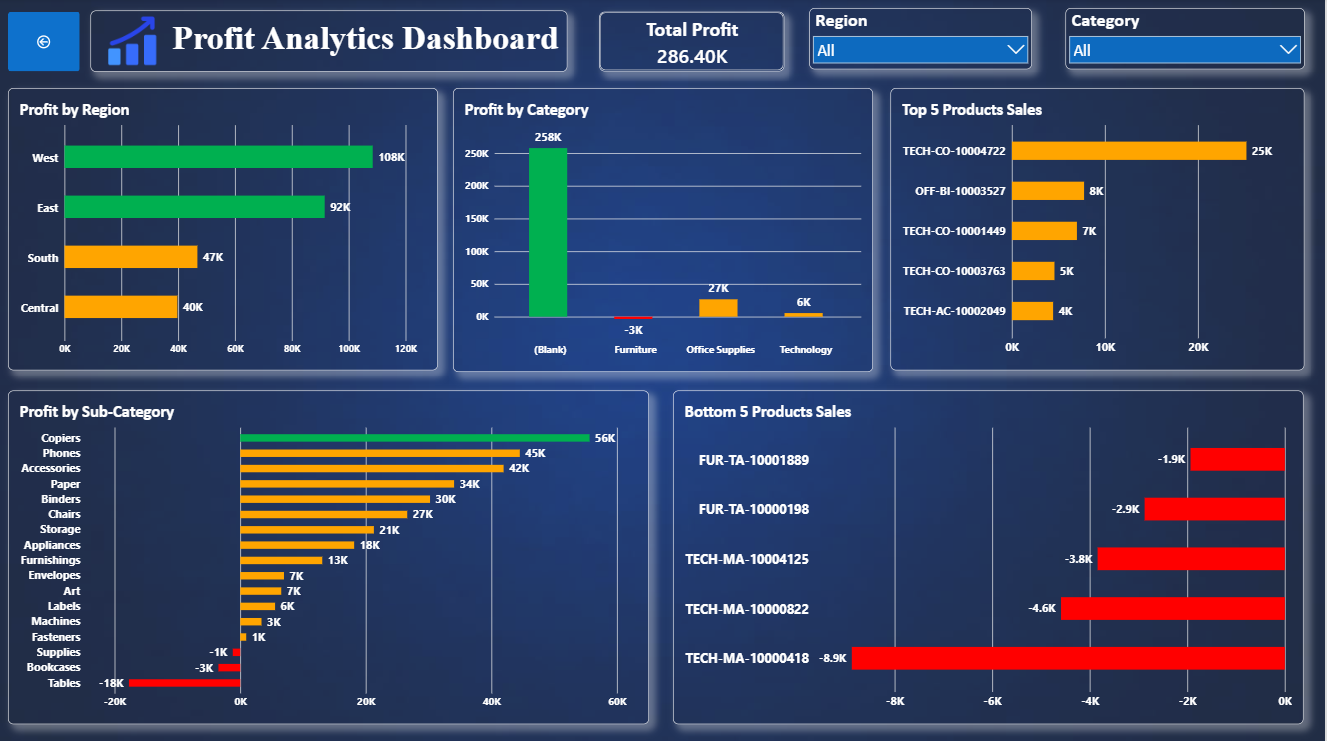

What the dashboard file says about the page in this screenshot:
{"tool":"powerbi","page":{"name":"Profit","canvas":[1920,1080],"ordinal":2},"visuals":[{"type":"textbox","box":[134.2,17.3,690.4,88.7],"z":0},{"type":"clusteredBarChart","title":"Profit by Region","fields":{"Category":["Data.Region Hierarchy.Region","Data.Region Hierarchy.State","Data.Region Hierarchy.City"],"Y":["Sum(Data.Profit)"]},"box":[14.5,130.3,622.5,409],"z":1000},{"type":"columnChart","title":"Profit by Category","fields":{"Category":["Abbreviations.Category Hierarchy.Category","Abbreviations.Category Hierarchy.Sub-Category"],"Y":["Sum(Data.Profit)"]},"box":[657.9,129.8,608.1,411.2],"z":2000},{"type":"barChart","title":"Profit by Sub-Category","fields":{"Category":["Abbreviations.Category Hierarchy.Category","Abbreviations.Category Hierarchy.Sub-Category"],"Y":["Sum(Data.Profit)"]},"box":[14.5,568.2,928.4,483.2],"z":3000},{"type":"barChart","title":"Top 5 Products Sales","fields":{"Category":["Data.Product ID"],"Y":["Sum(Data.Profit)"]},"box":[1292,129.8,599.5,409],"z":4000},{"type":"slicer","fields":{"Values":["Abbreviations.Category"]},"box":[1545.2,15.1,346.3,88.7],"z":5000},{"type":"barChart","title":"Bottom 5 Products Sales","fields":{"Category":["Data.Product ID"],"Y":["Sum(Data.Profit)"]},"box":[977.1,568.6,913,483.2],"z":6000},{"type":"cardVisual","fields":{"Data":["Data.Total Profit"]},"box":[870,19.5,268.4,86.6],"z":7000},{"type":"image","box":[134.2,23.8,121.2,77.9],"z":8000},{"type":"slicer","fields":{"Values":["Data.Region"]},"box":[1175.1,15.1,322.5,88.7],"z":10000},{"type":"actionButton","box":[15.1,19.5,103.9,86.6],"z":10001}]}

Visuals, with their boxes in screenshot pixels (x1, y1, x2, y2), scaled from the page's 1920x1080 canvas onto the 1327x741 screenshot:
textbox: x1=93, y1=12, x2=570, y2=73
"Profit by Region" clusteredBarChart: x1=10, y1=89, x2=440, y2=370
"Profit by Category" columnChart: x1=455, y1=89, x2=875, y2=371
"Profit by Sub-Category" barChart: x1=10, y1=390, x2=652, y2=721
"Top 5 Products Sales" barChart: x1=893, y1=89, x2=1307, y2=370
slicer - Abbreviations.Category: x1=1068, y1=10, x2=1307, y2=71
"Bottom 5 Products Sales" barChart: x1=675, y1=390, x2=1306, y2=722
cardVisual - Data.Total Profit: x1=601, y1=13, x2=787, y2=73
image: x1=93, y1=16, x2=177, y2=70
slicer - Data.Region: x1=812, y1=10, x2=1035, y2=71
actionButton: x1=10, y1=13, x2=82, y2=73
